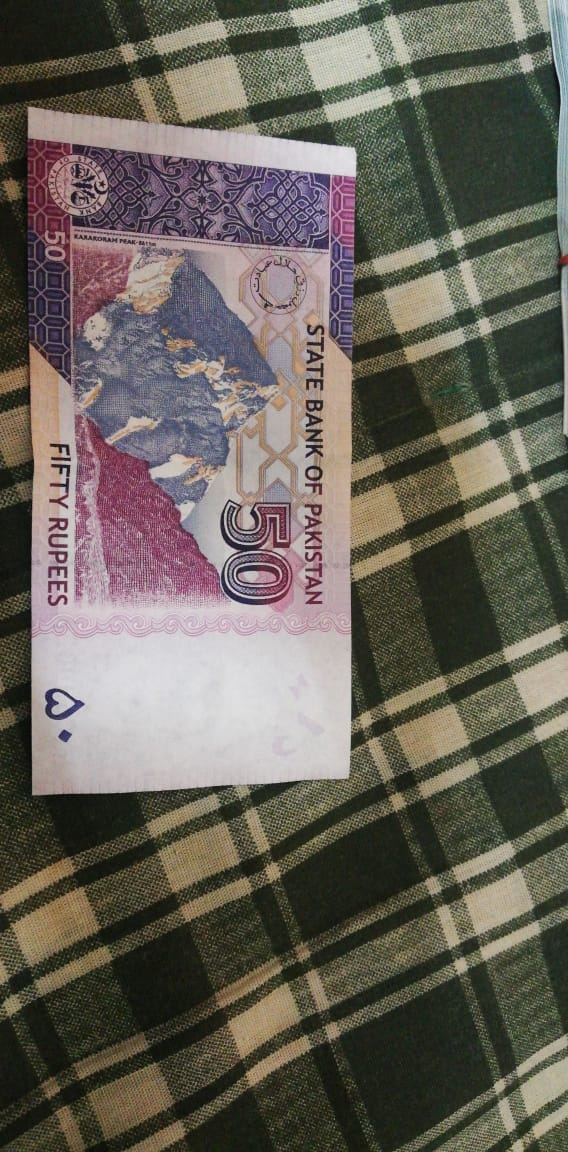50 rupee: (5, 93, 362, 809)
